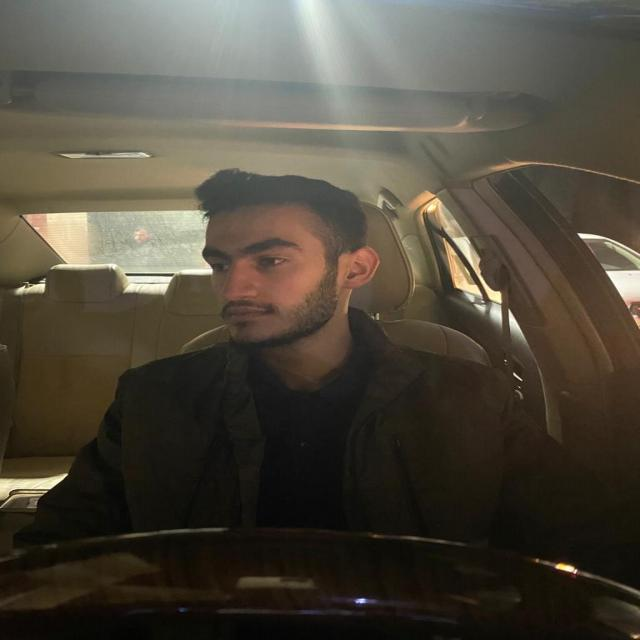person: (183, 155, 392, 361)
